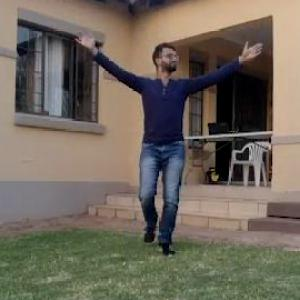takeoff: (60, 21, 264, 245)
